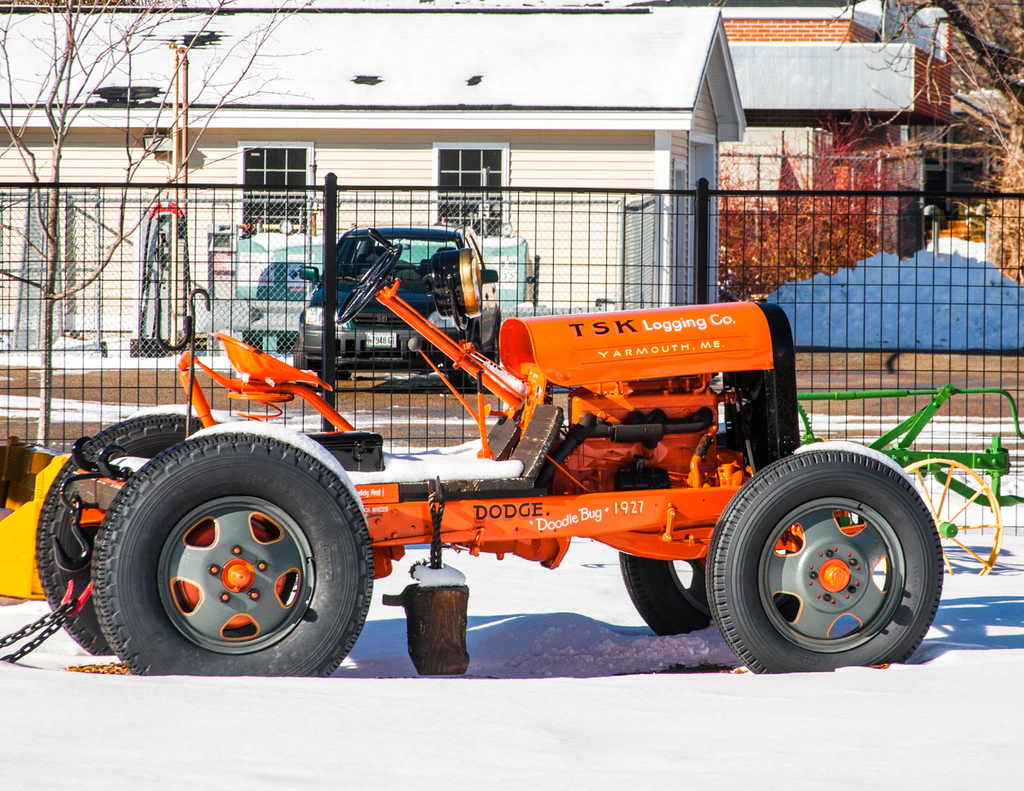Car: (282, 227, 501, 385)
